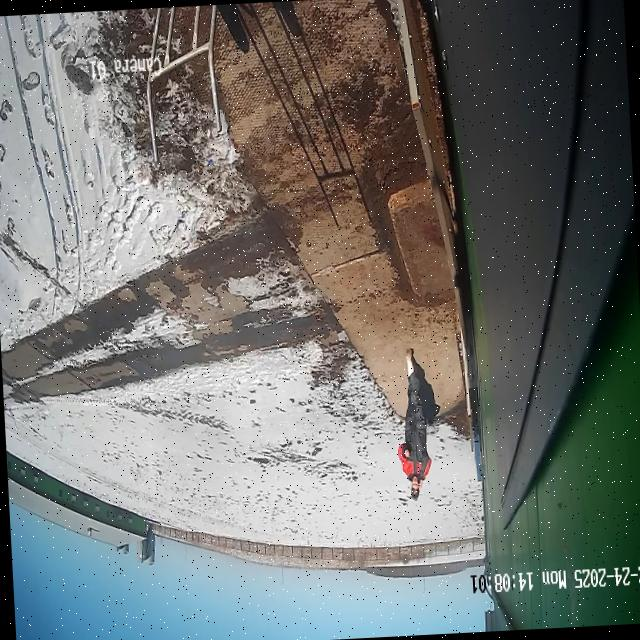Red uniform: (398, 350, 432, 501)
